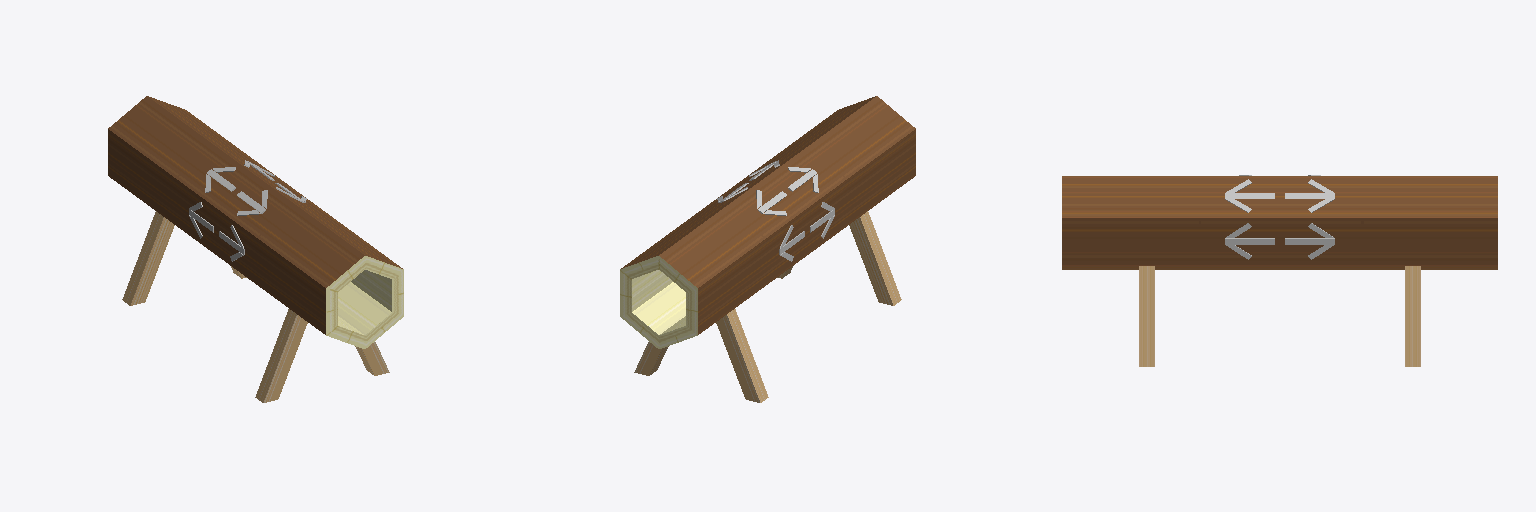
3 views of the same model, side by side, from view 1: azimuth 30°, elevation 25°; view 2: azimuth 150°, elevation 25°; view 3: azimuth 270°, elevation 25° (orthographic).
Parts seen in each view (by area): view 1: Cylinder, Cube_Cube.001, Cube.002, Cube.001_Cube.002; view 2: Cylinder, Cube_Cube.001, Cube.002, Cube.001_Cube.002; view 3: Cylinder, Cube_Cube.001, Cube.001_Cube.002, Cube.002.
Part boxes in pixels (x1,y1,x2,y2): Cylinder: (108, 96, 403, 348); Cube_Cube.001: (122, 211, 389, 402); Cube.002: (205, 160, 306, 215); Cube.001_Cube.002: (189, 202, 244, 261); Cylinder: (620, 96, 915, 348); Cube_Cube.001: (634, 211, 901, 402); Cube.002: (717, 160, 818, 215); Cube.001_Cube.002: (779, 202, 834, 261); Cylinder: (1062, 176, 1497, 269); Cube_Cube.001: (1139, 266, 1420, 366); Cube.001_Cube.002: (1225, 223, 1334, 259); Cube.002: (1225, 175, 1334, 212).
Size of the model in its own units: 1.13 by 1.37 by 3.37.
Materials: 5 (4 with a texture image).